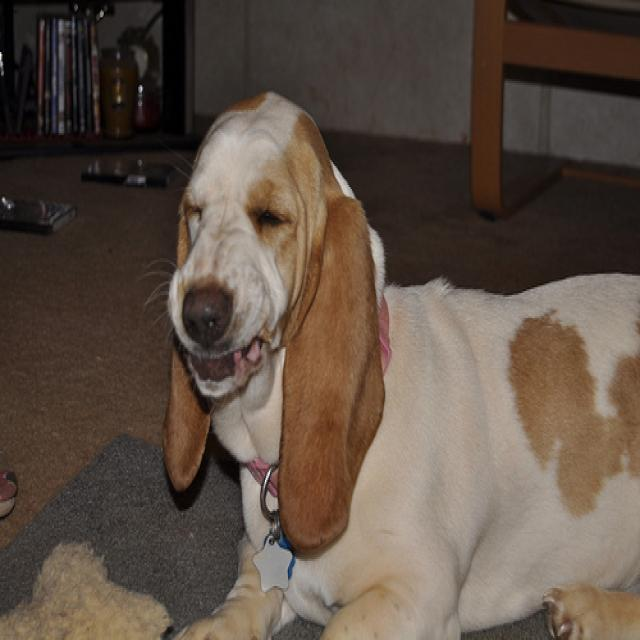dog-basset_hound: (131, 81, 637, 636)
